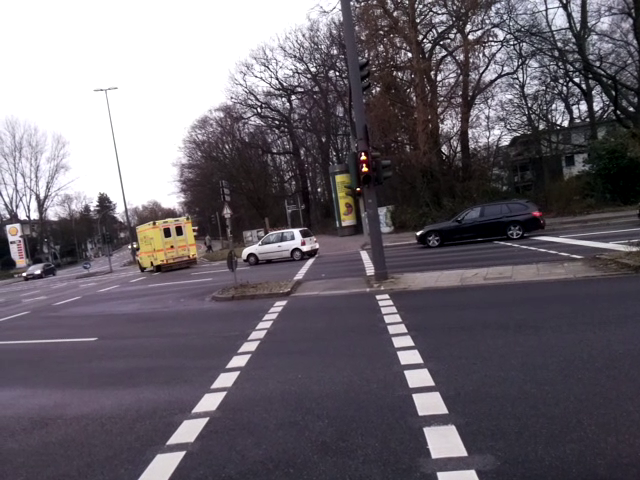car: (416, 198, 544, 242), (241, 227, 315, 262)
